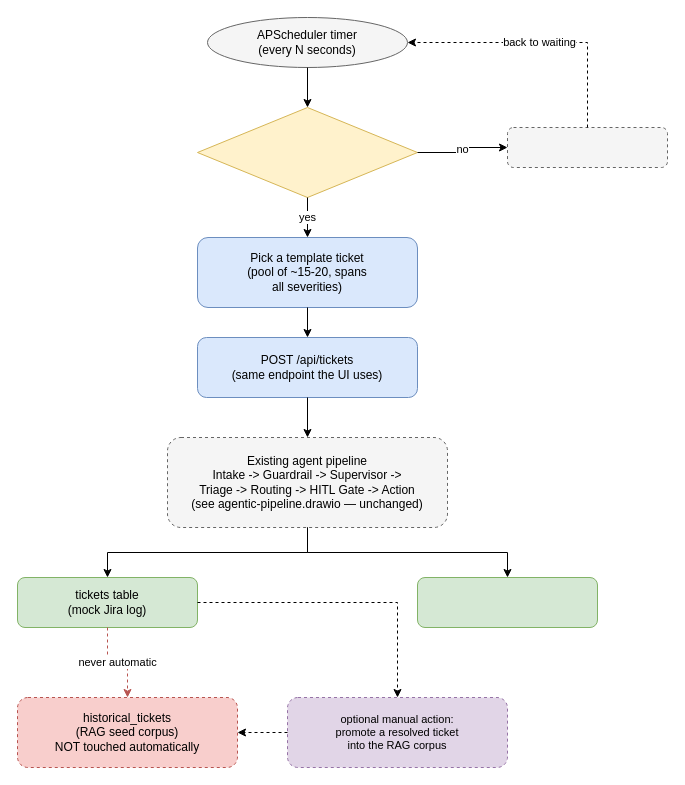
The diagram is 685 pixels wide and 785 high, and some of its shapes have lost their labels. Each missing label, with the box of its shape:
agent_runs trace (same as any ticket): (416, 576, 598, 628)
Scheduler enabled? (SCHEDULER_ENABLED, /api/scheduler/pause|resume): (196, 106, 418, 198)
Skip this tick: (506, 126, 668, 168)
